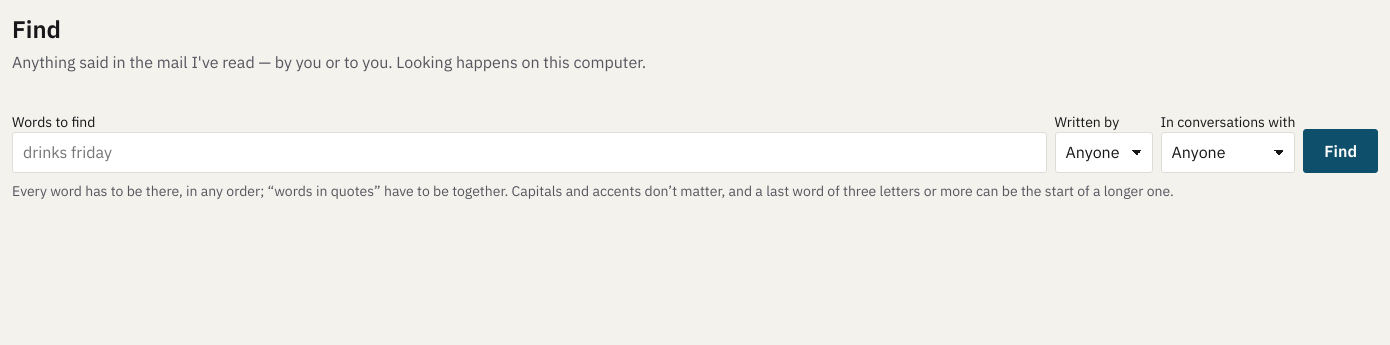
Scenario: finding what was said › looks again, through whoever's messages are chosen
This screenshot has width=1390, height=345.
Type "friday" into the search field labelled "Words to find" at (529, 153), box [12,132,1046,174]
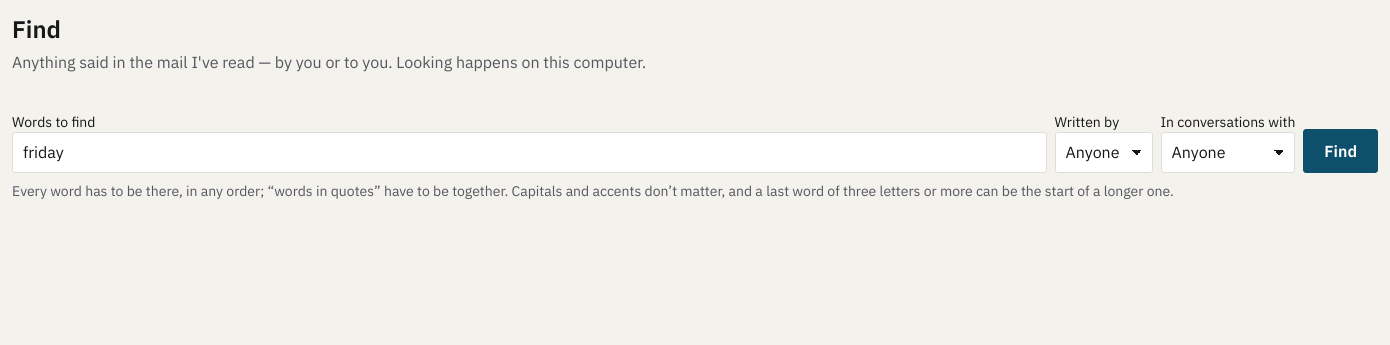
Click the button "Find" at (1341, 152), box [1303,130,1378,174]
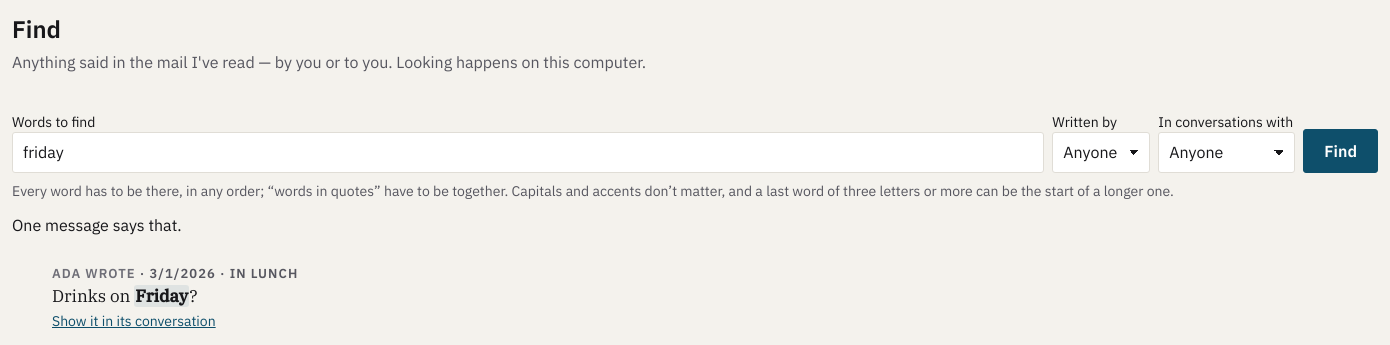
Expected: the message reads "One message says that.", [12,215,182,235]
Select "You" in the dropdown labelled "Written by" at (1101, 153), box [1052,132,1150,174]
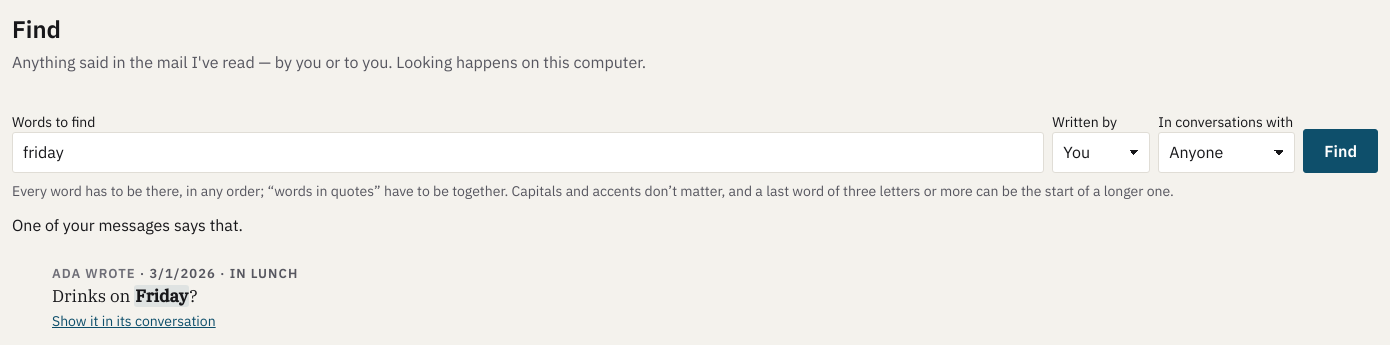
Expected: the message reads "One of your messages says that.", [12,215,243,235]
